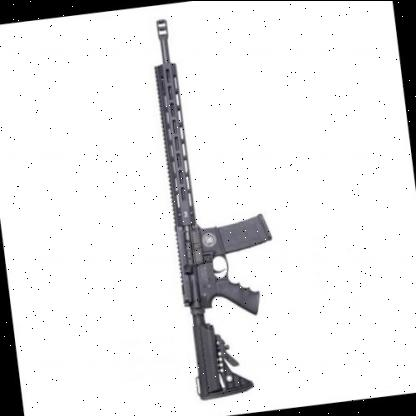rifle: (143, 7, 297, 411)
